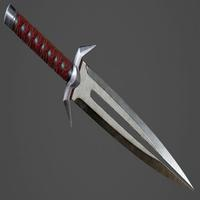knife: (4, 5, 197, 193)
